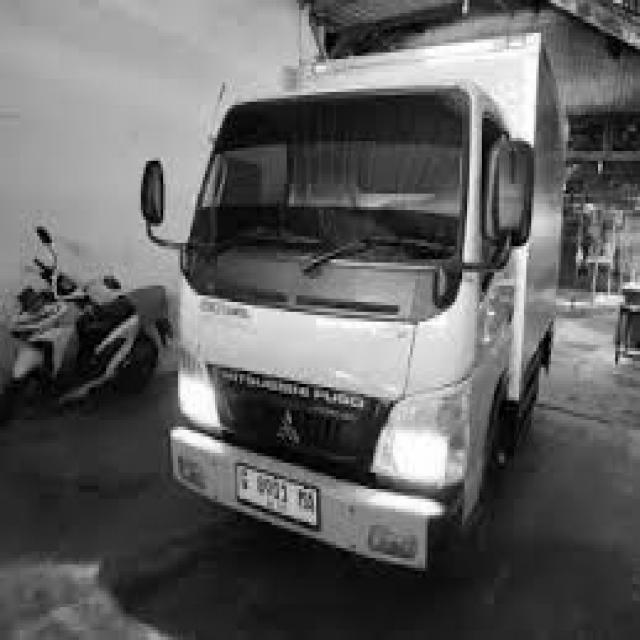truck: (128, 33, 555, 597)
